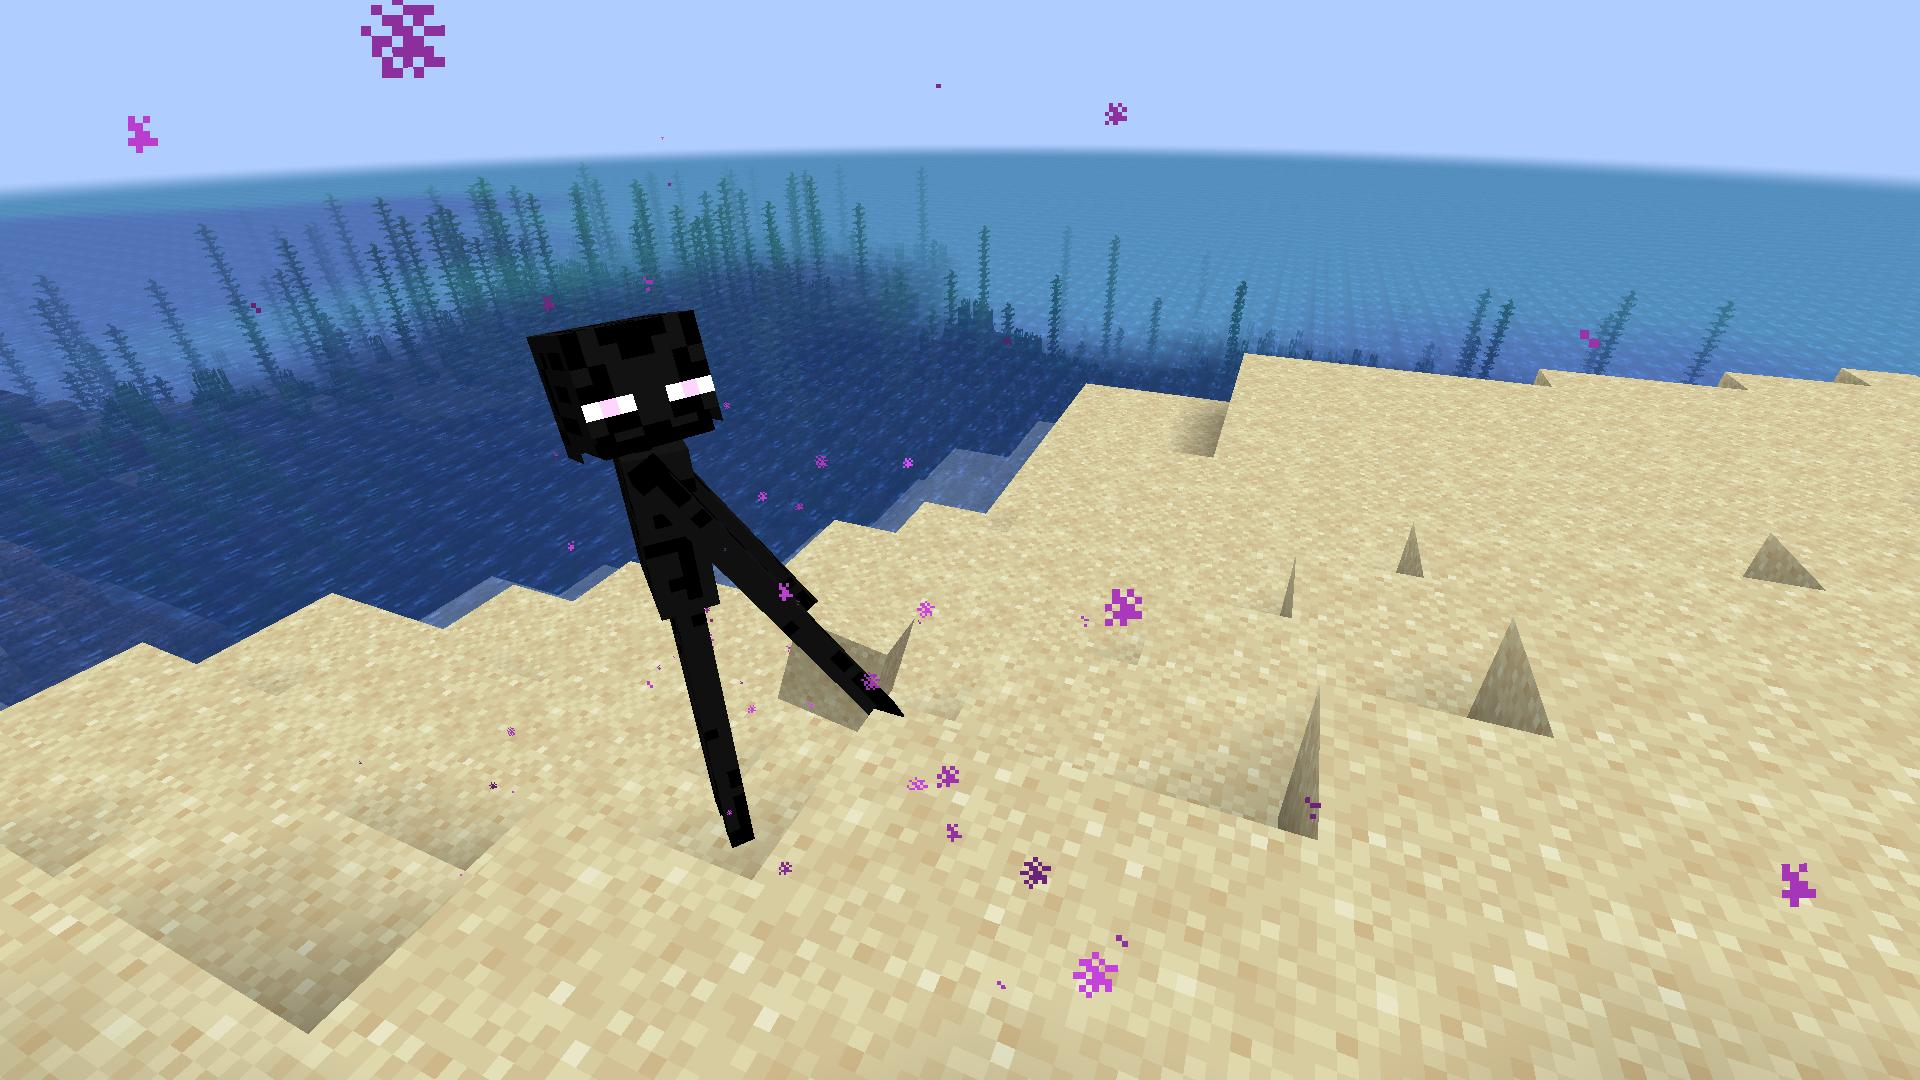enderman: (517, 297, 934, 852)
